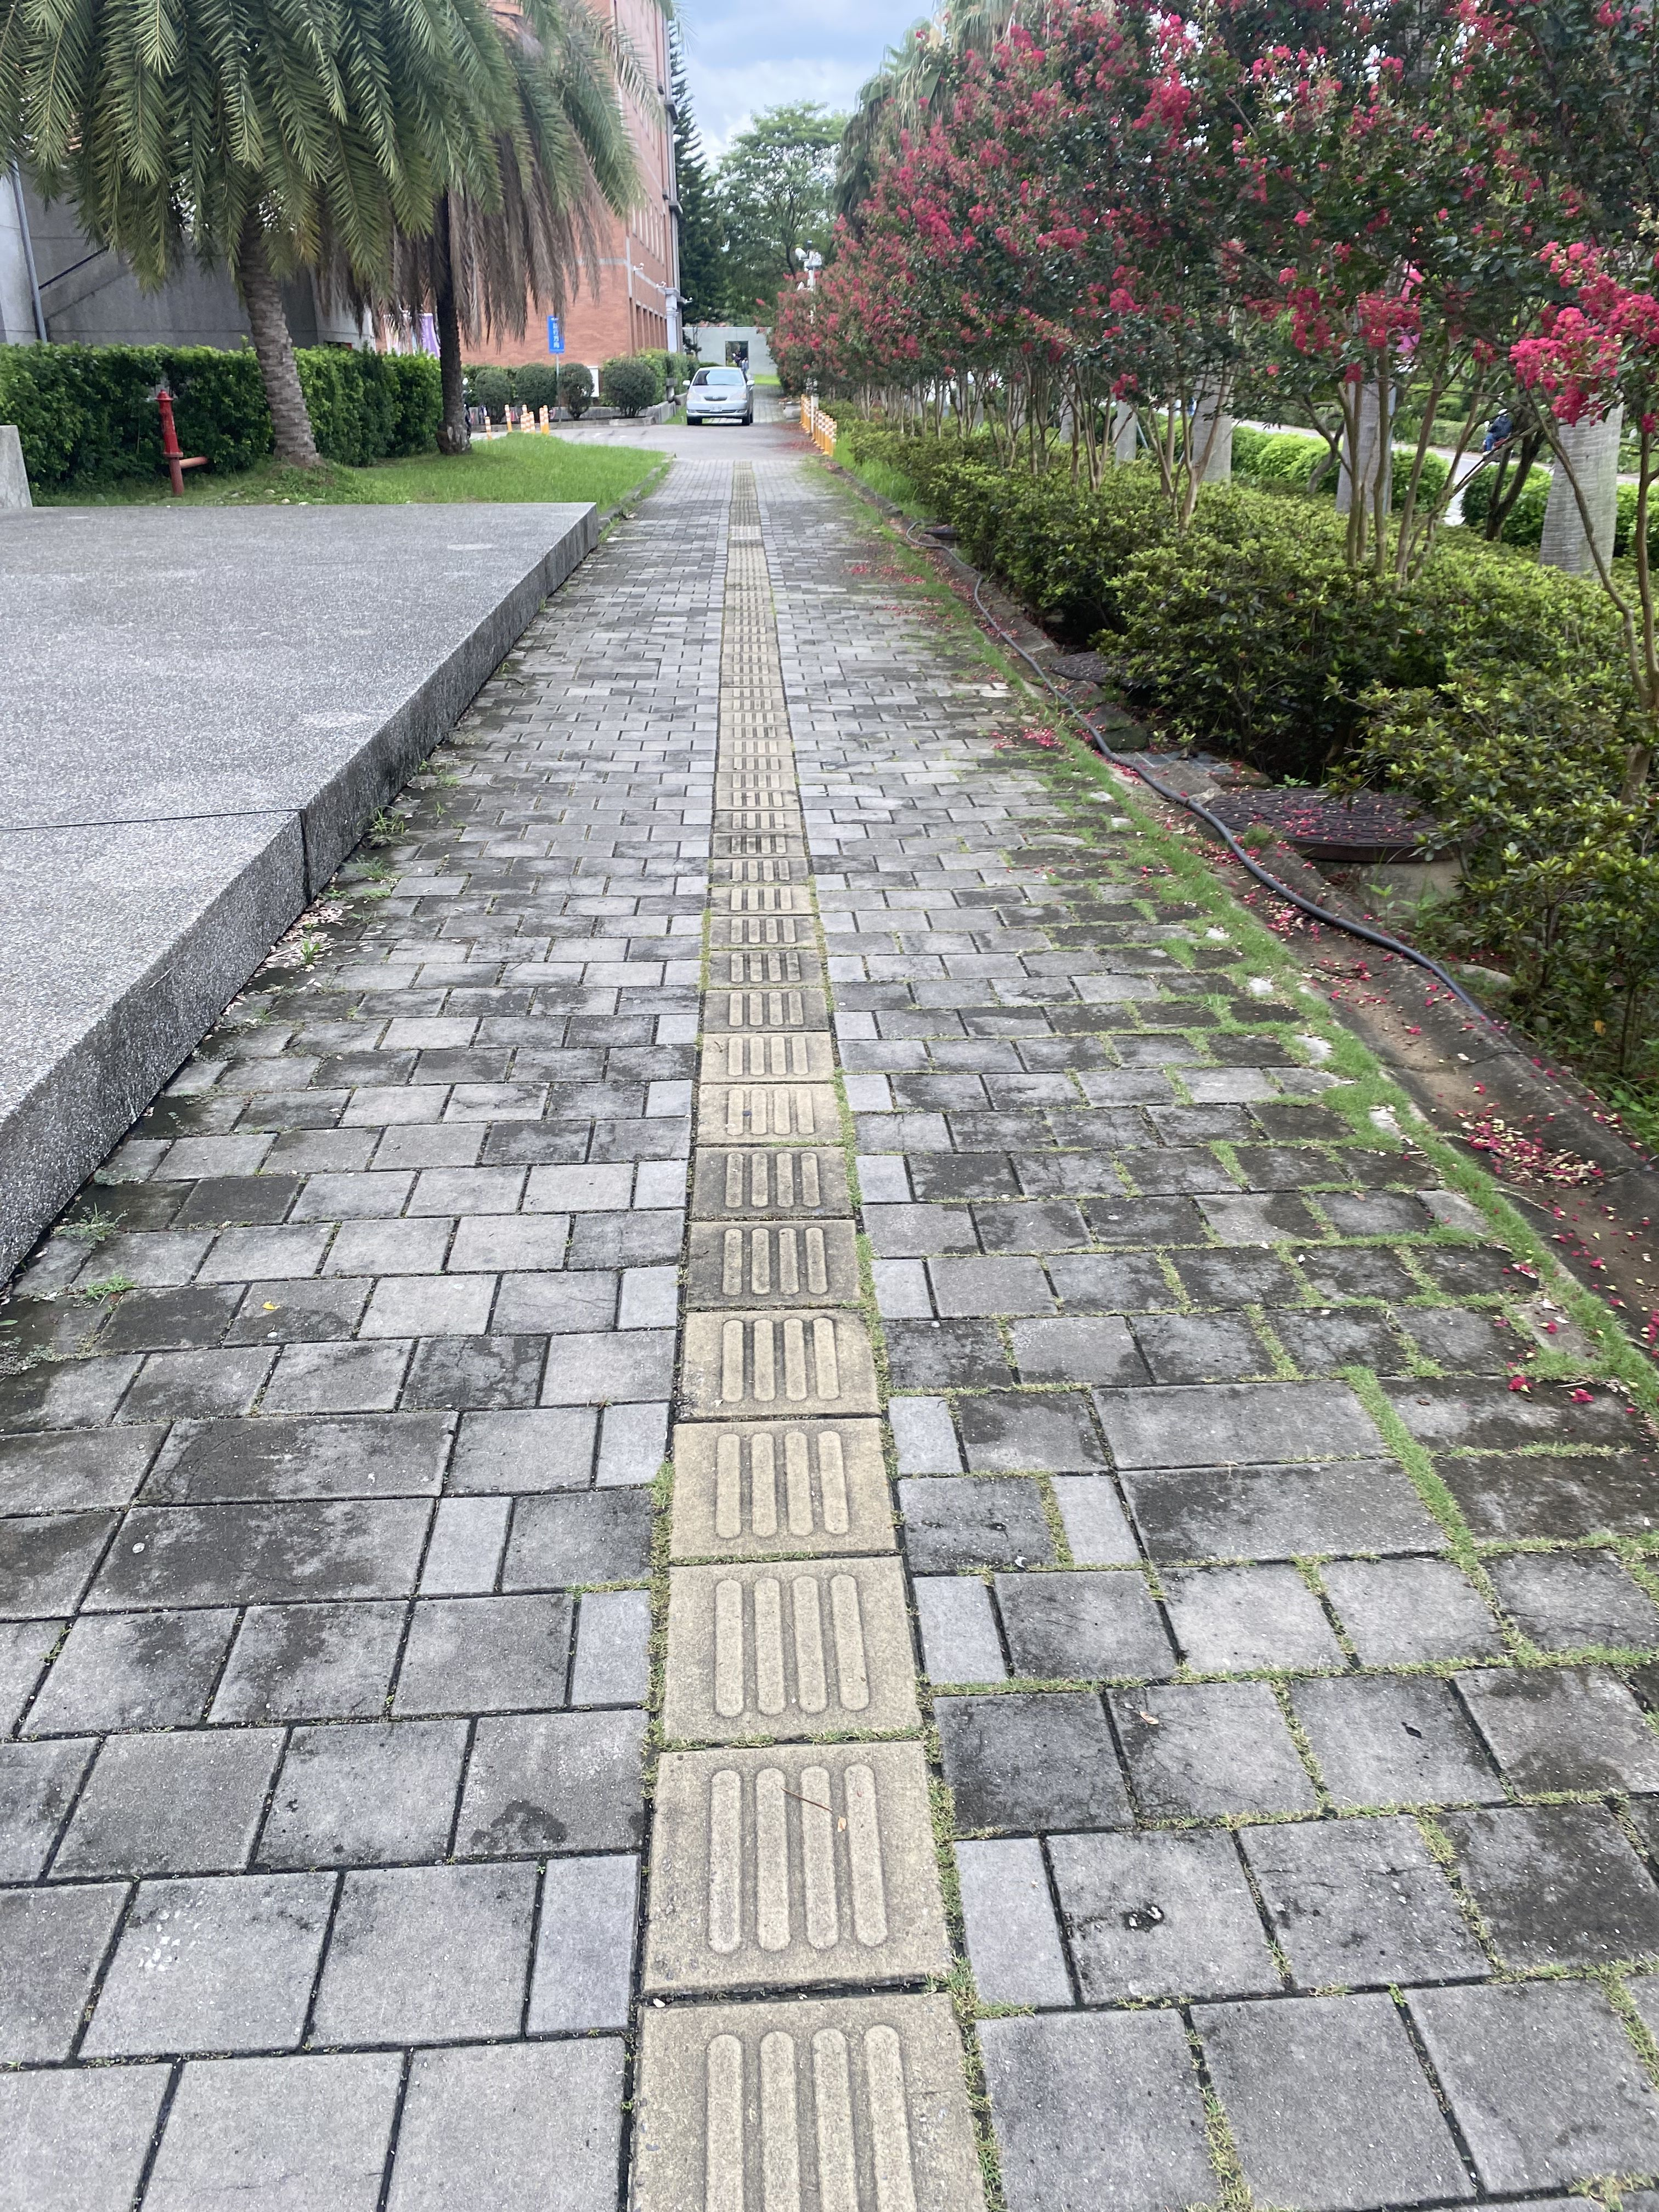0: (3, 657, 1659, 2212)
sidewalk: (516, 448, 1124, 1569)
